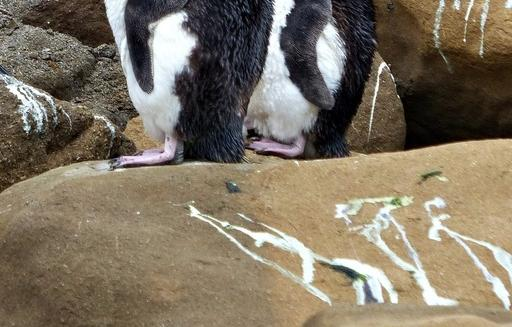Southern Rockhopper Penguin: (93, 0, 288, 180), (207, 0, 391, 170), (0, 0, 2, 74)
